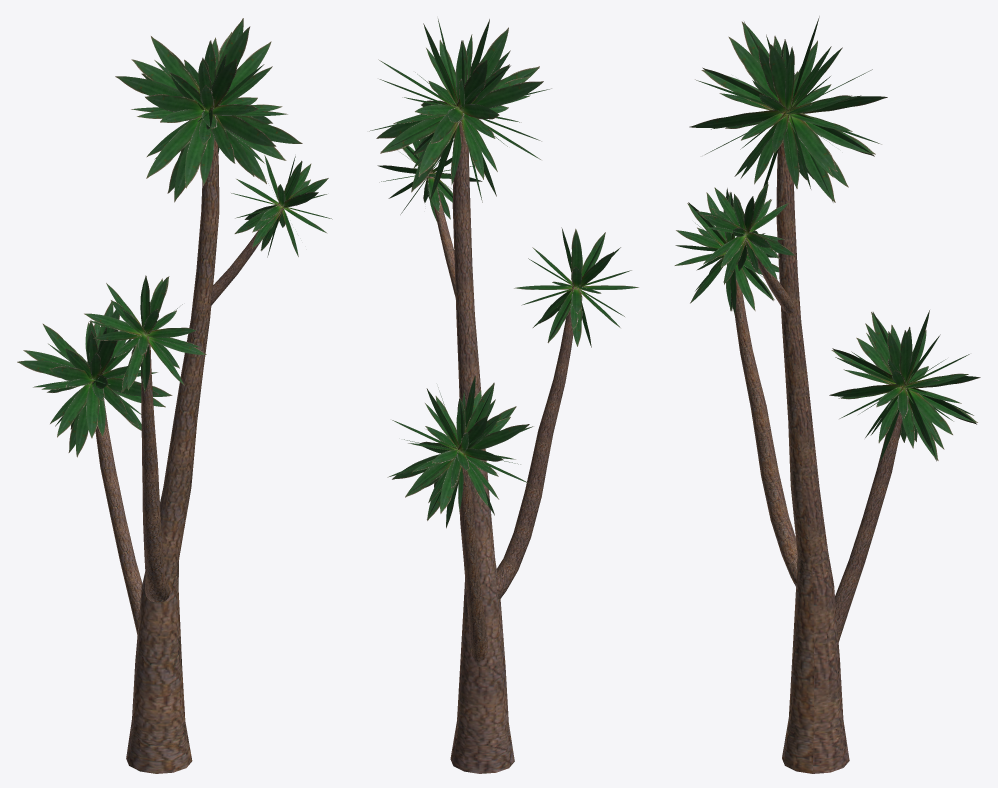
Rendered from tree-05.fbx.
3 views of the same model, side by side, from view 1: azimuth 30°, elevation 25°; view 2: azimuth 150°, elevation 25°; view 3: azimuth 270°, elevation 25° (orthographic). The views are drawn at different scales.
Visible parts, largest first — view 1: Cylinder.002; view 2: Cylinder.002; view 3: Cylinder.002.
Boxes of the visible parts, x1,y1,x2,y2 form: Cylinder.002: (17, 18, 332, 773); Cylinder.002: (369, 19, 638, 773); Cylinder.002: (674, 16, 980, 773).
Size of the model in its own units: 2.33 by 6.83 by 2.58.
